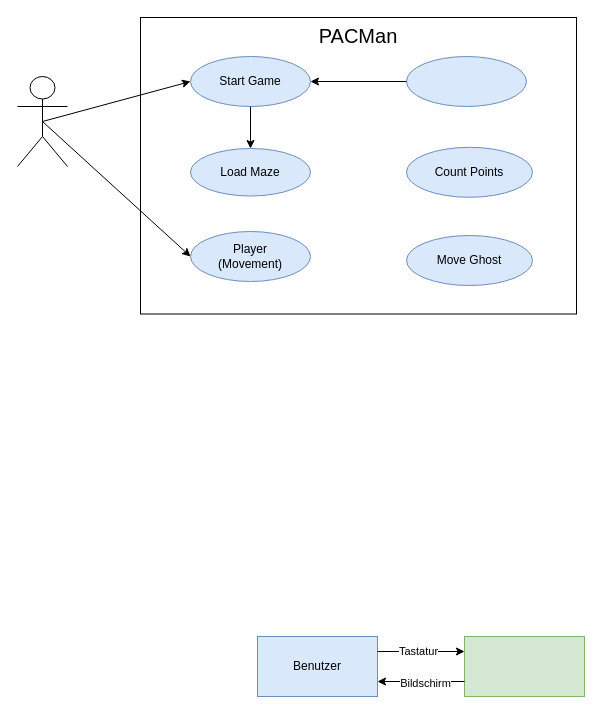
This 602x714 diagram has some shape labels left out. The shapes that lost their labels are listed below. From the top down, each one's box as (x1, y1, x2, y2) in pixels, then its label:
(406, 56, 526, 106): Game finish
(16, 76, 68, 166): User
(464, 636, 584, 696): PACMan Programm
